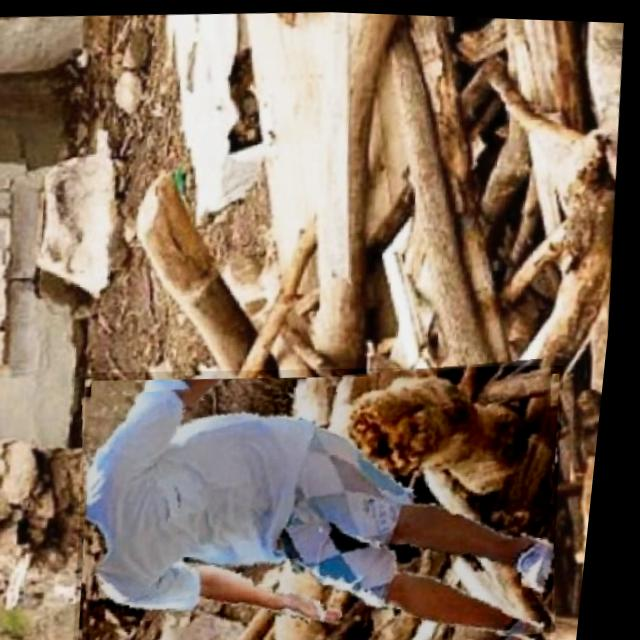Person in Rubble: (73, 346, 586, 640)
